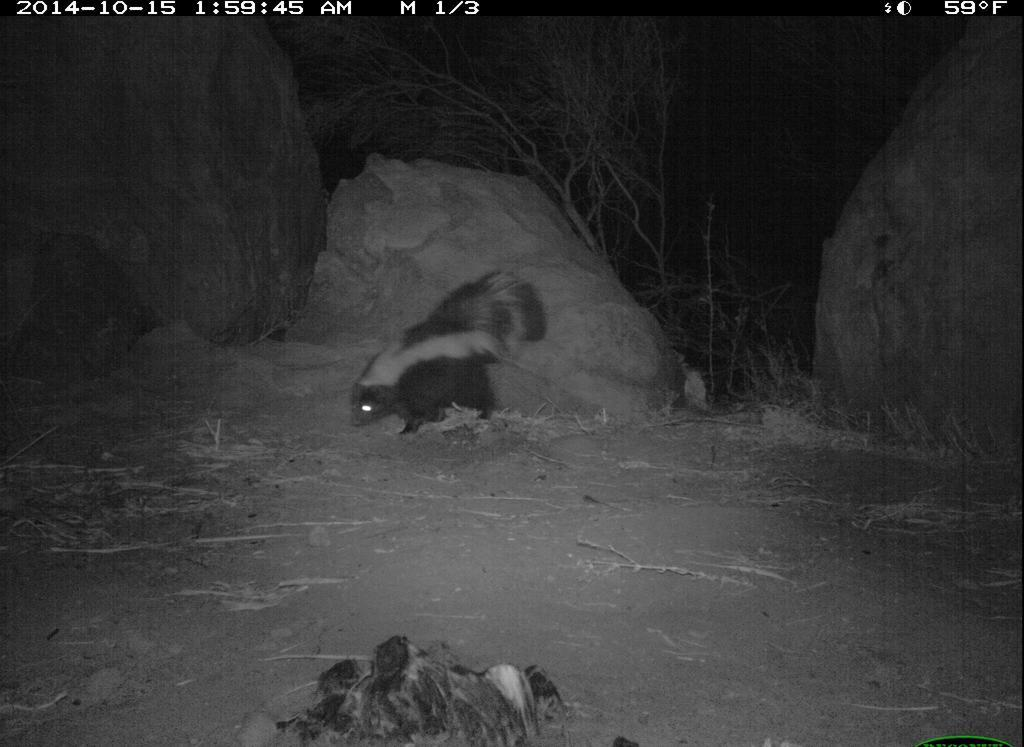skunk: (341, 260, 557, 447)
